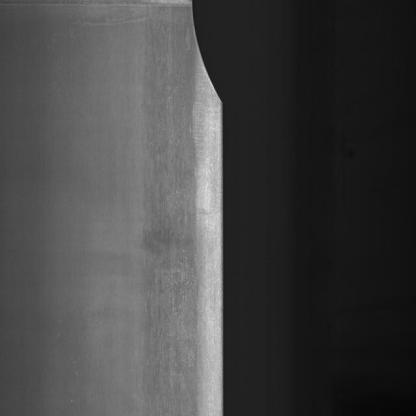crescent_gap: (179, 0, 234, 114)
